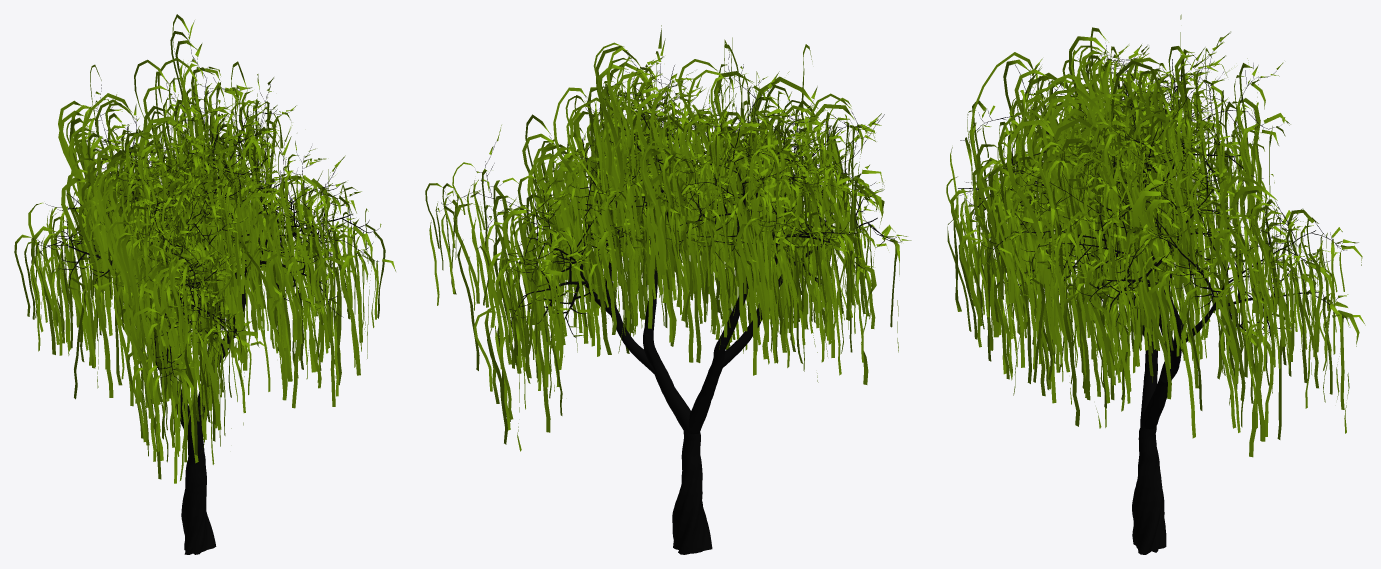
File: tree.glb
The picture shows the model from 3 angles, left to right: view 1: azimuth 30°, elevation 25°; view 2: azimuth 150°, elevation 25°; view 3: azimuth 270°, elevation 25°; orthographic projection. The views are drawn at different scales.
Parts seen in each view (by area): view 1: tree_leaf_generator1; view 2: tree_leaf_generator1; view 3: tree_leaf_generator1.
Boxes of the visible parts, <box> form: tree_leaf_generator1: <box>14,14,395,554</box>; tree_leaf_generator1: <box>425,25,911,554</box>; tree_leaf_generator1: <box>946,14,1365,554</box>.
Size of the model in its own units: 18.43 by 24.51 by 17.65.
